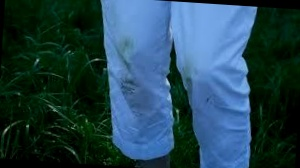earth: (120, 38, 134, 62), (181, 63, 196, 85)
